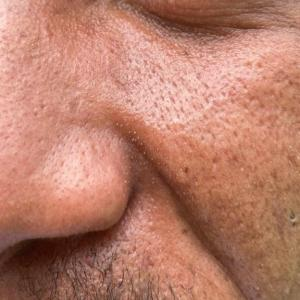Oily-Skin: (94, 10, 296, 130)
